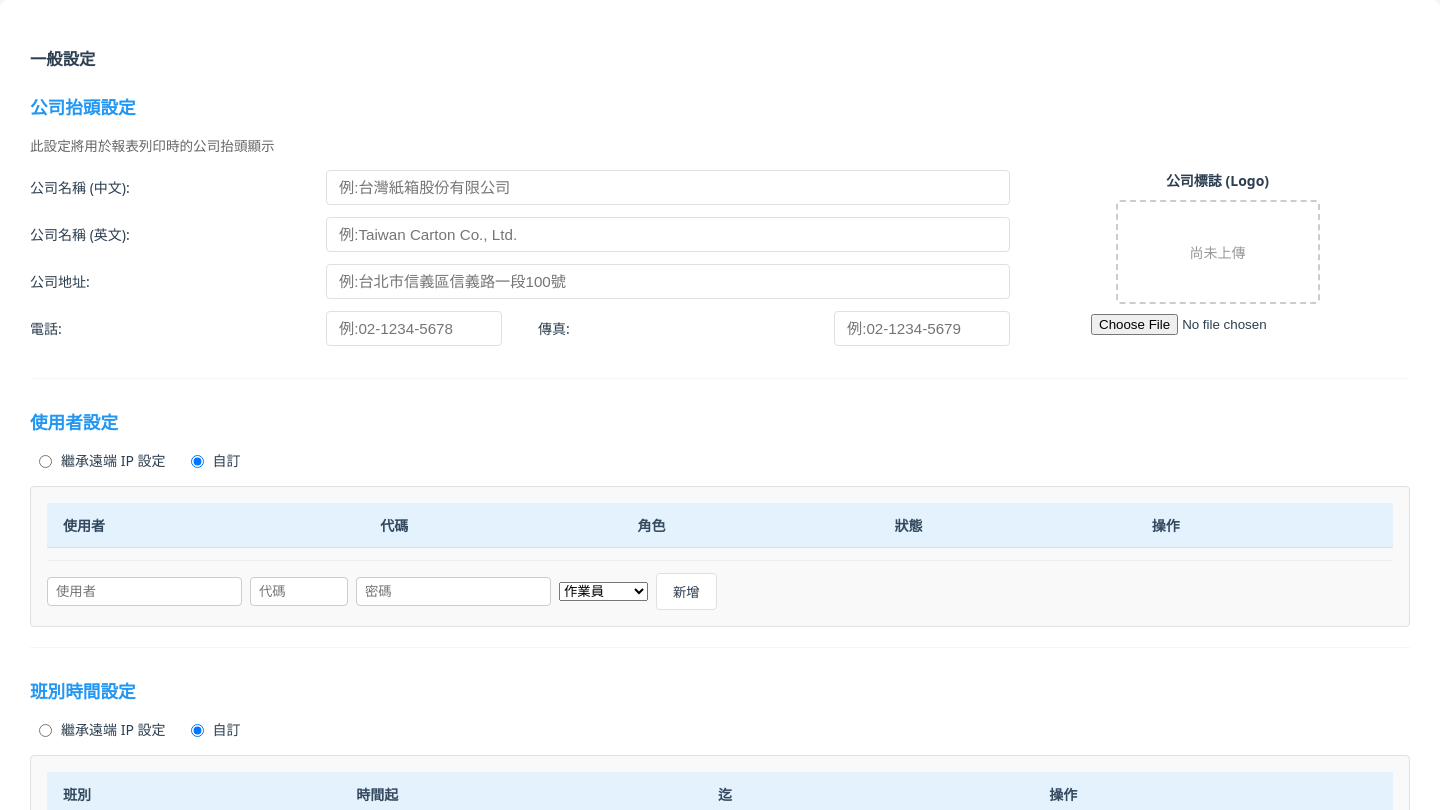
Test: 設定頁使用者名冊(S6 AC-66/67,S7 接後端) › 新增使用者時送給後端的 username 是代碼 OP1 而不是顯示名稱
The image size is (1440, 810).
Type "王小明" into the field with placeholder "使用者". click: [144, 591]
box: [47,577,242,606]
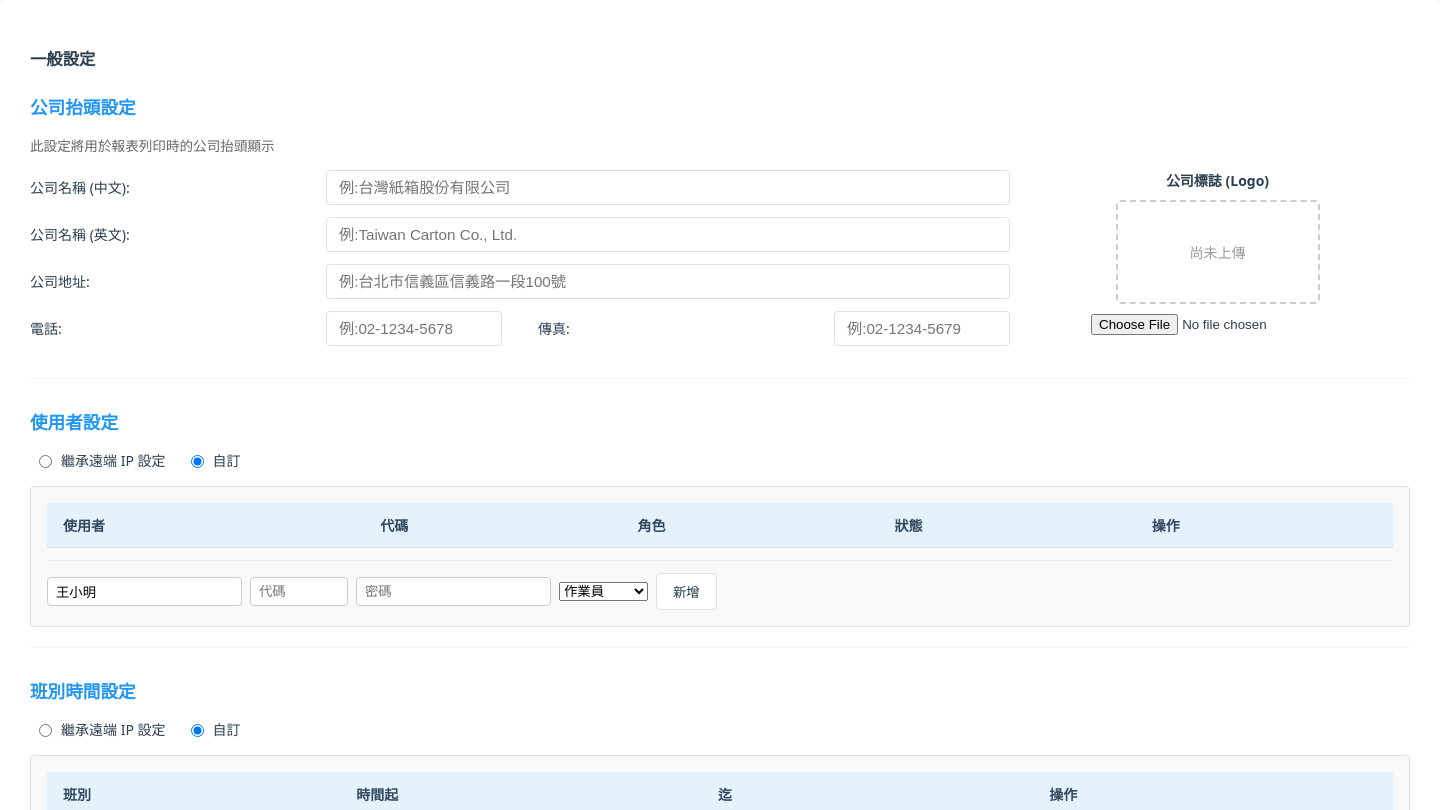
Type "OP1" into the field with placeholder "代碼". click: [299, 591]
box: [250,577,348,606]
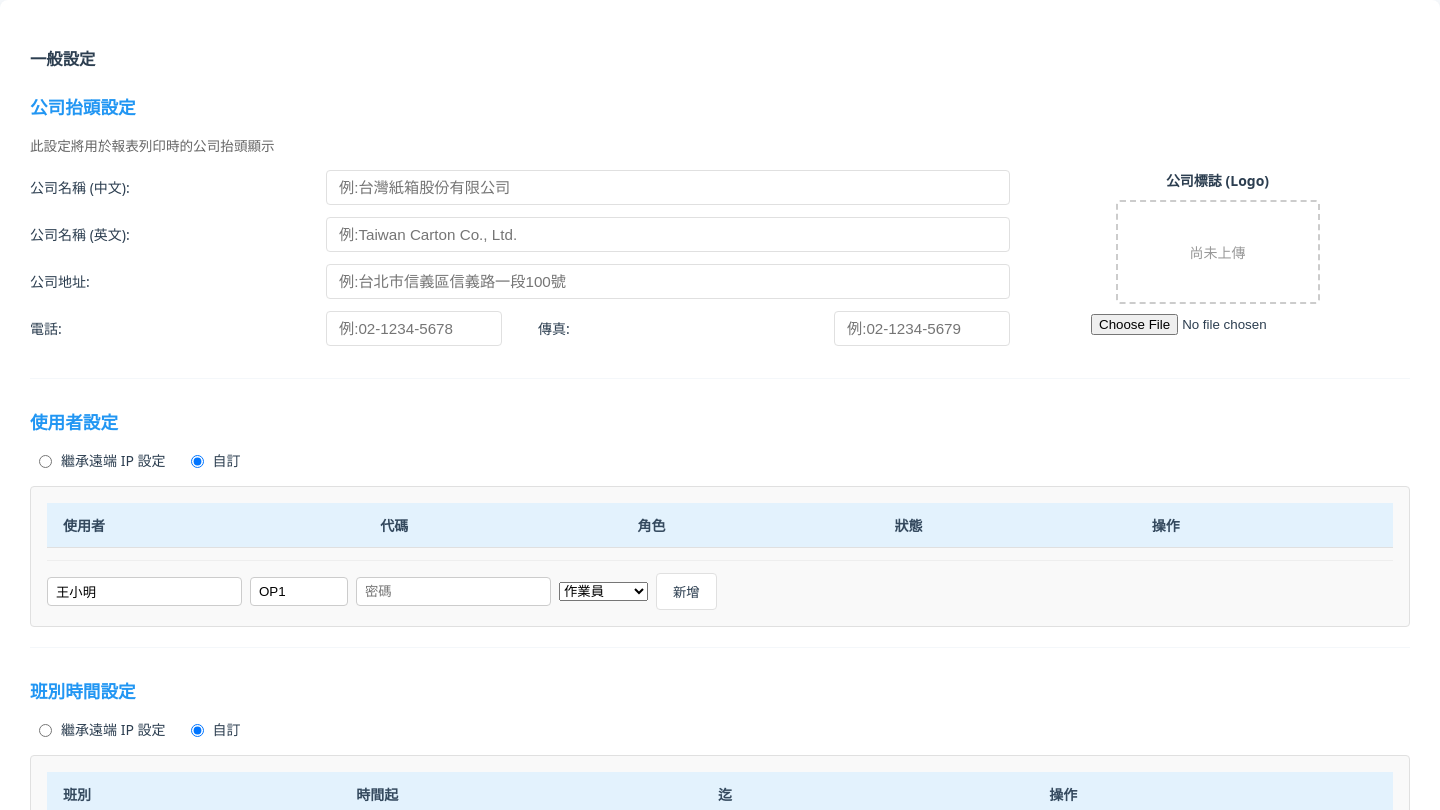
Type "CorrectHorse123!" into the password field with placeholder "密碼". click: [454, 591]
box: [356,577,551,606]
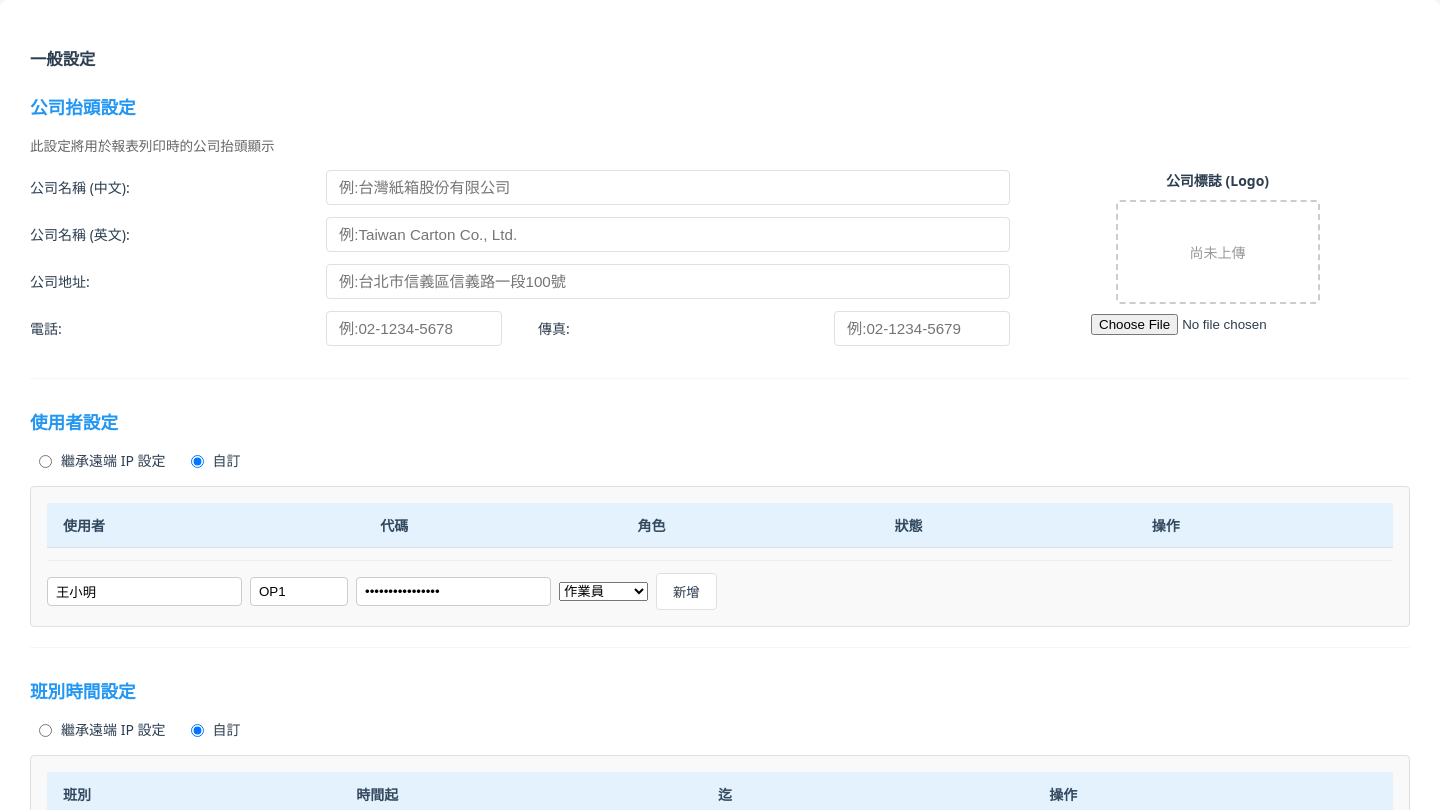
Click the button "新增". click: [686, 591]
box: [656,573,717,610]
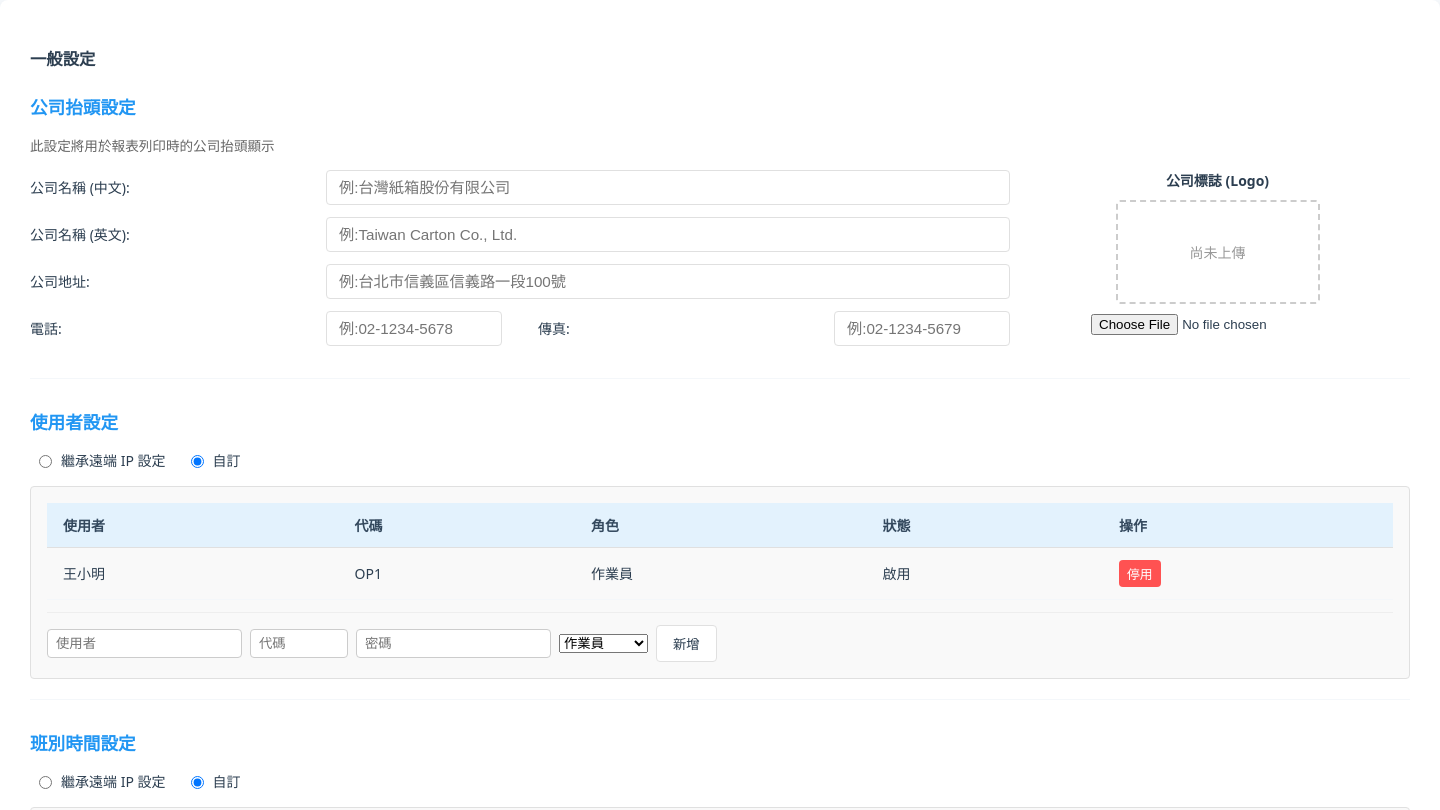
Expected: the cell "王小明" is shown, [47,547,339,599]
Expected: the cell "OP1" is shown, [339,547,575,599]
